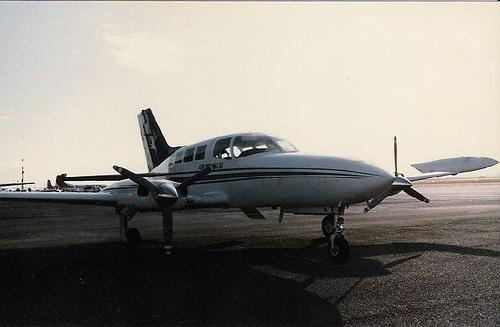aeroplane: (1, 108, 497, 264)
